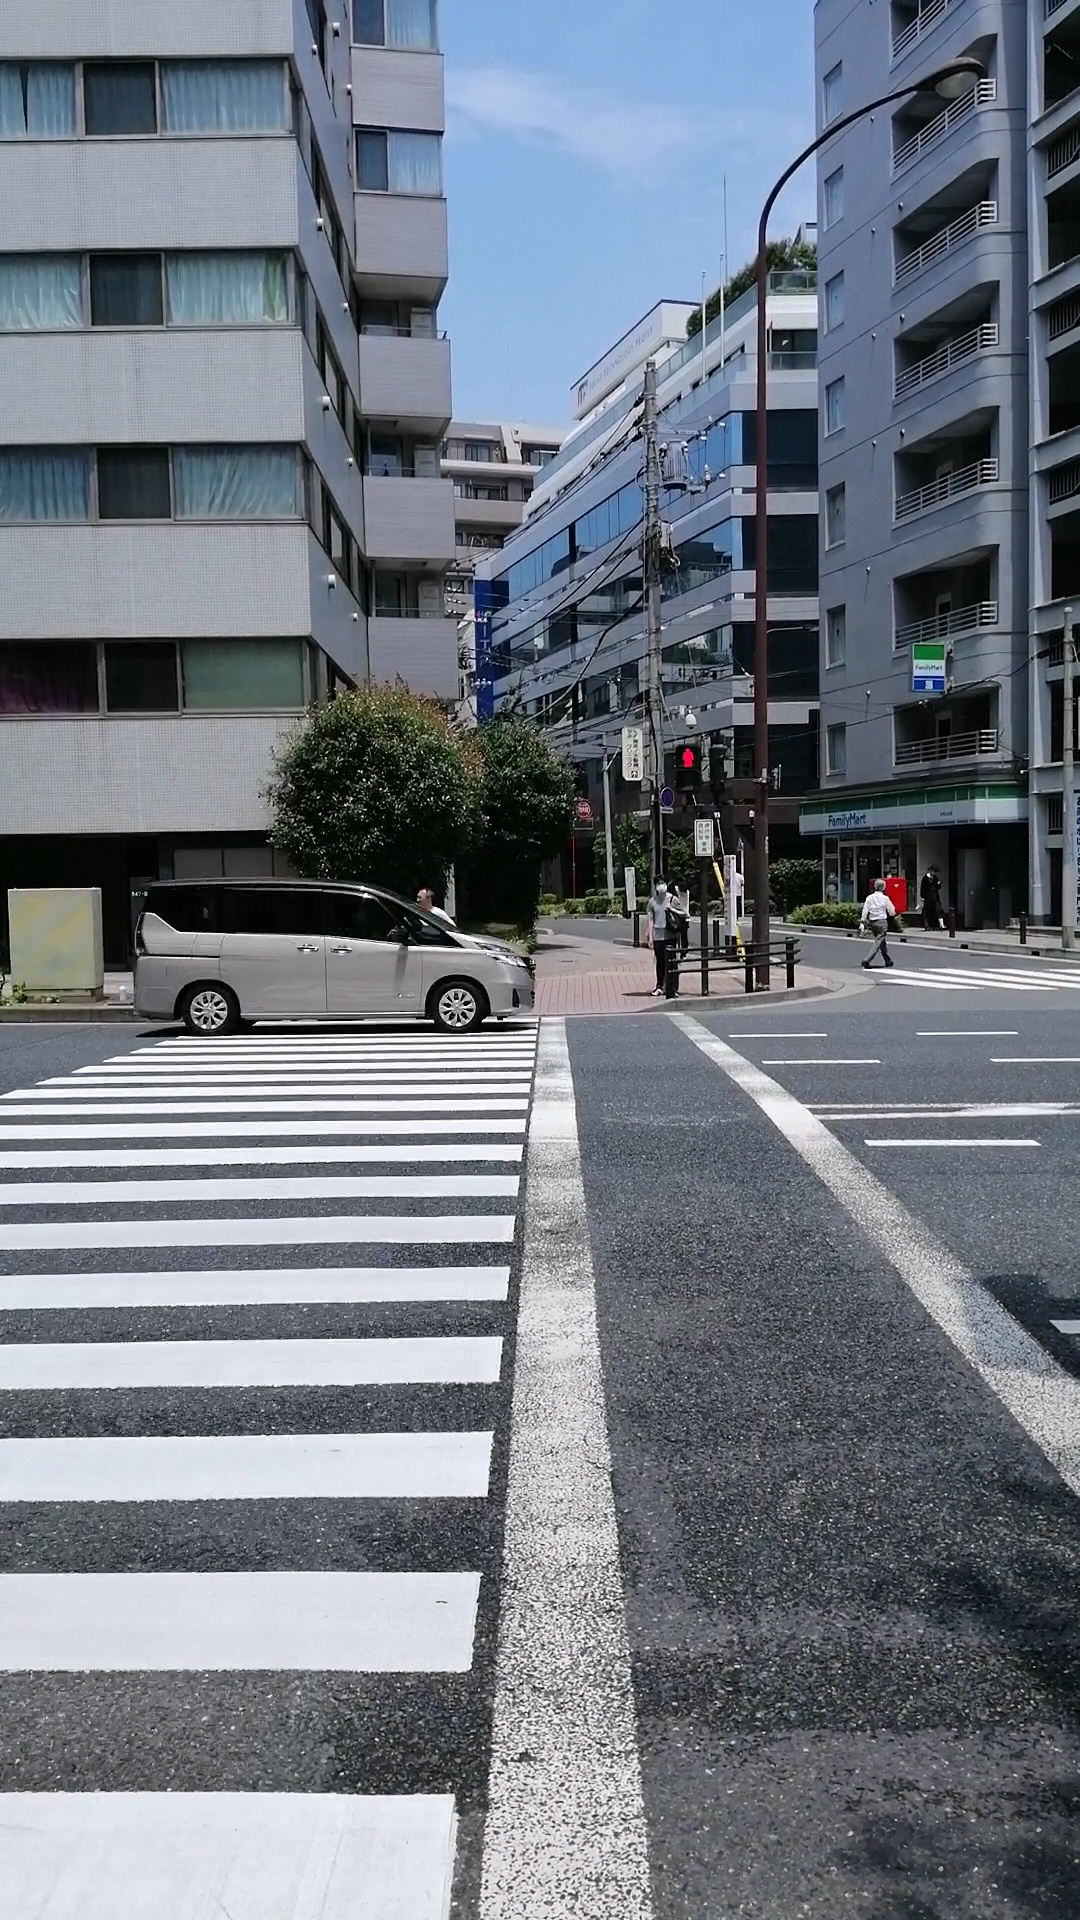red: (673, 742, 702, 793)
